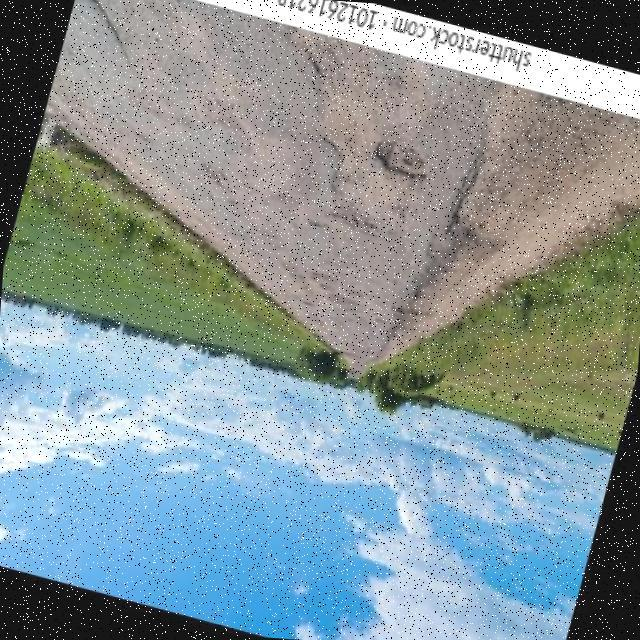Pothole: (373, 141, 426, 181)
